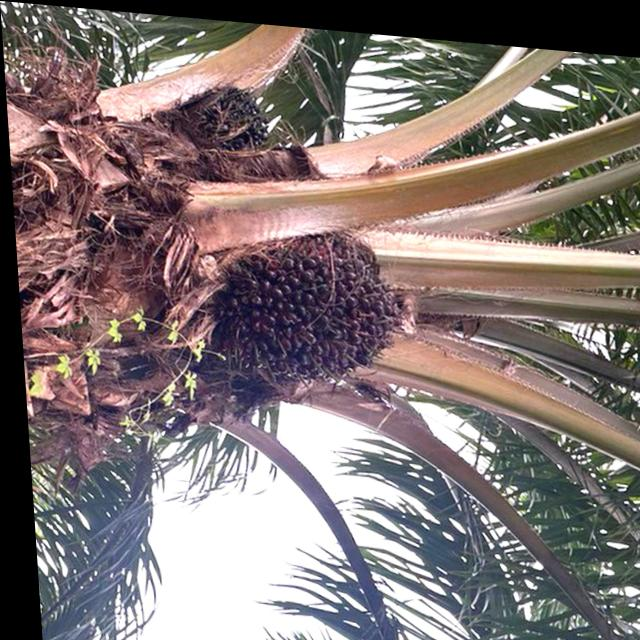ripe: (208, 219, 415, 392)
